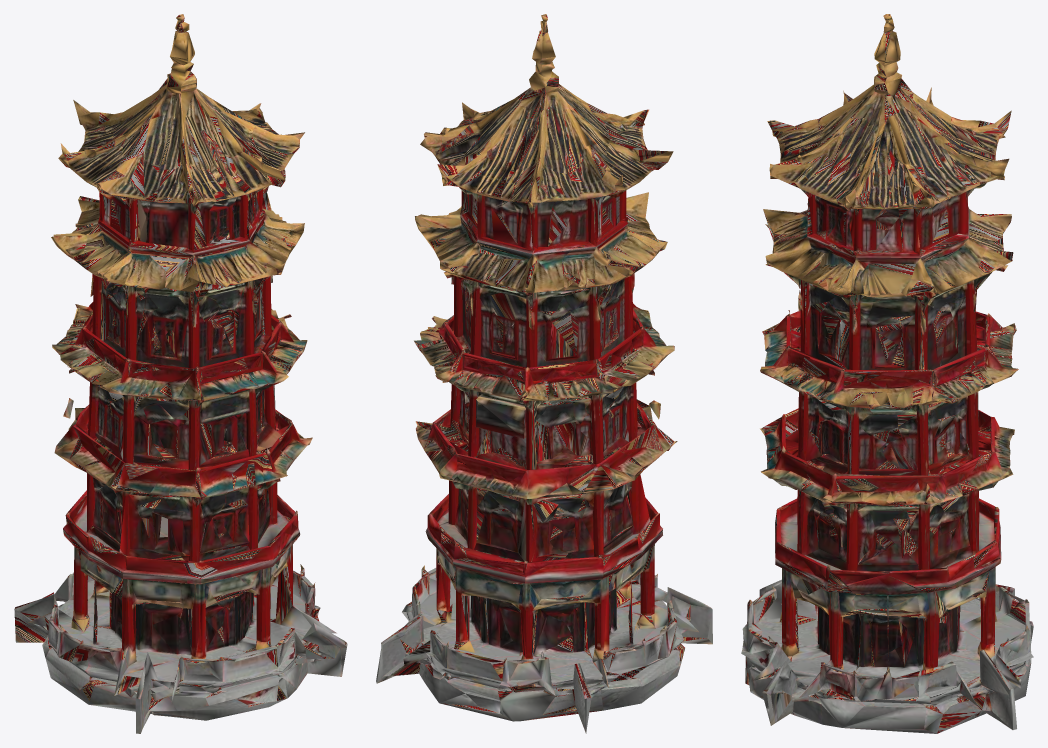
The model's file is tower_nine.mid.glb.
3 renders of one model, left to right at view 1: azimuth 30°, elevation 25°; view 2: azimuth 150°, elevation 25°; view 3: azimuth 270°, elevation 25°, orthographic. The views are drawn at different scales.
Size of the model in its own units: 0.7509 by 1.87 by 0.7495.
Materials: 1 (1 with a texture image).
